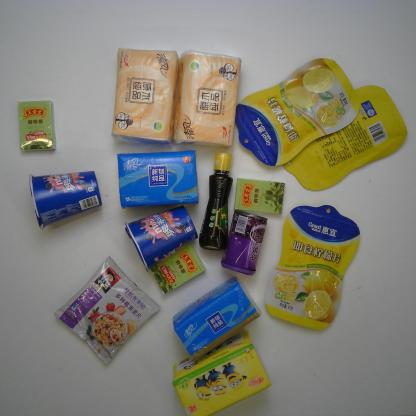Candy: (150, 243, 206, 293), (16, 99, 56, 155), (232, 176, 284, 217)
Canned Food: (219, 209, 269, 277)
Dessert: (124, 205, 198, 273), (27, 170, 103, 230)
Dried Fruit: (232, 57, 360, 167), (282, 84, 408, 191), (263, 203, 361, 332)
Instant Drink: (51, 256, 160, 366)
Seasoner: (198, 151, 233, 252)
Tissue: (170, 328, 272, 414), (172, 276, 262, 362), (172, 49, 242, 147), (111, 47, 179, 147), (116, 150, 199, 207)
